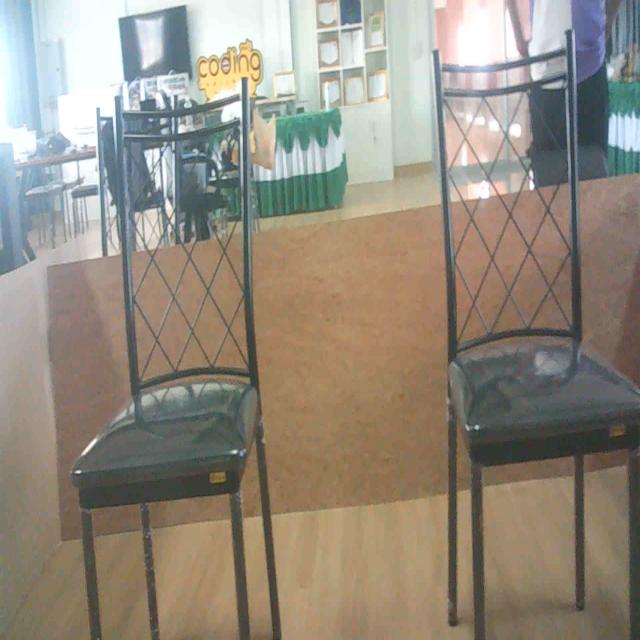empty: (426, 58, 634, 457), (70, 94, 248, 506)
